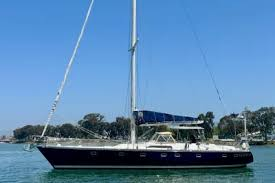boat: (33, 1, 254, 170)
